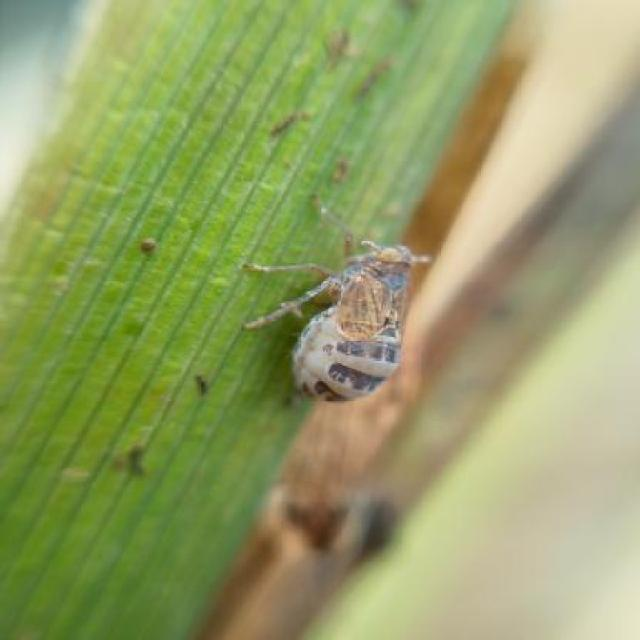wereng pada daun padi: (237, 202, 434, 408)
